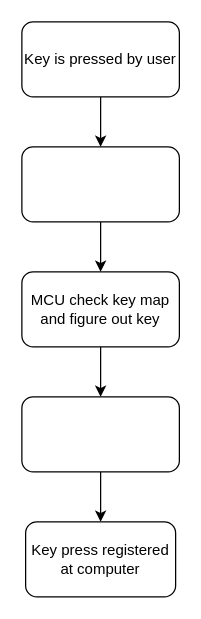
The diagram is 201 pixels wide and 619 high, and some of its shapes have lost their labels. The centre of each missing label's shape, as x and y in pixels:
"Key information sent to computer via USB-C" belongs at point 100,434.
"One column and one row connected" belongs at point 100,184.
